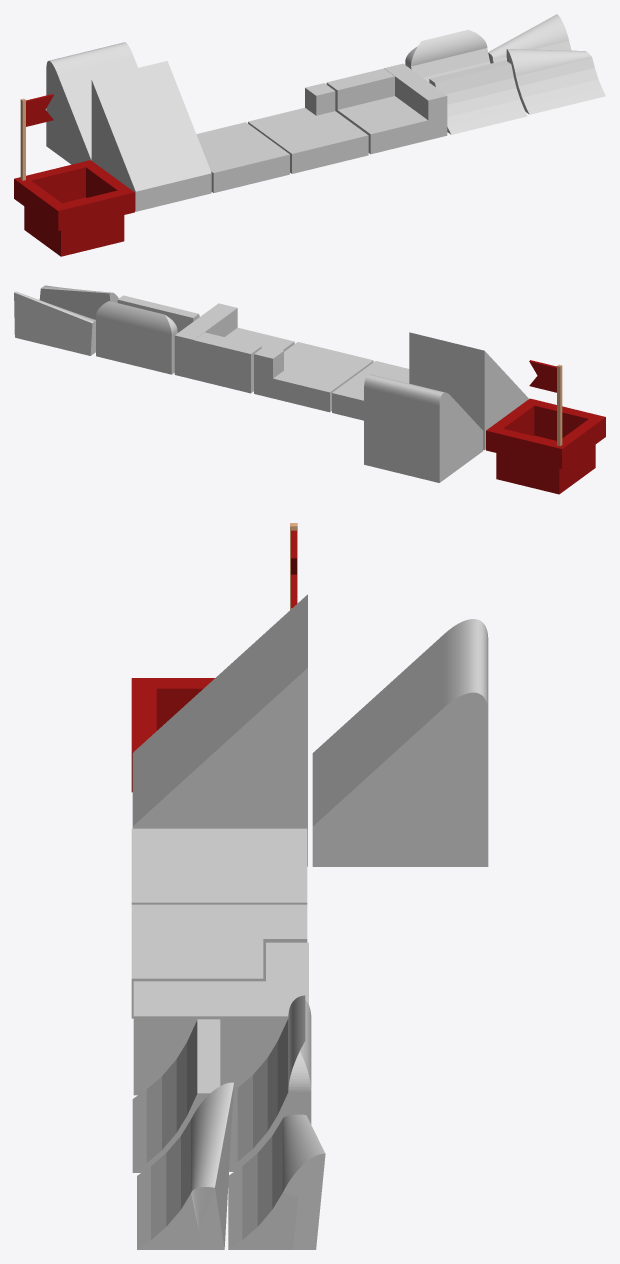
File: block fix.glb
3 views of the same model, one above another, from view 1: azimuth 30°, elevation 25°; view 2: azimuth 150°, elevation 25°; view 3: azimuth 270°, elevation 25° (orthographic). The views are drawn at different scales.
Parts seen in each view (by area): view 1: tanjakan mencos, target, flat benteng, tanjakan tumpul, flat corner nonjol, tanjakan miring kanan, tanjakan melengkung, flat floor, tanjakan melengkung.001, tanjakan miring kiri; view 2: tanjakan tumpul, target, tanjakan mencos, flat benteng, flat corner nonjol, tanjakan melengkung.001, tanjakan miring kiri, flat floor, tanjakan miring kanan, tanjakan melengkung; view 3: tanjakan tumpul, tanjakan mencos, flat benteng, flat floor, flat corner nonjol, tanjakan miring kanan, tanjakan miring kiri, tanjakan melengkung.001, tanjakan melengkung, target.
Boxes of the visible parts, x1,y1,x2,y2 form: tanjakan mencos: (91,61,211,211); target: (14,94,134,256); flat benteng: (326,63,447,154); tanjakan tumpul: (46,42,137,164); flat corner nonjol: (248,83,368,173); tanjakan miring kanan: (506,49,605,114); tanjakan melengkung: (429,60,527,134); flat floor: (196,122,289,192); tanjakan melengkung.001: (405,29,490,82); tanjakan miring kiri: (488,14,571,63); tanjakan tumpul: (364,374,483,482); target: (486,360,605,494); tanjakan mencos: (409,332,528,450); flat benteng: (174,303,294,393); flat corner nonjol: (254,342,373,412); tanjakan melengkung.001: (96,301,177,374); tanjakan miring kiri: (14,291,95,355); flat floor: (332,361,409,420); tanjakan miring kanan: (39,285,118,319); tanjakan melengkung: (117,295,199,332); tanjakan tumpul: (312,619,488,866); tanjakan mencos: (132,594,307,866); flat benteng: (133,942,308,1095); flat floor: (131,828,307,904); flat corner nonjol: (131,904,307,1018); tanjakan miring kanan: (137,1082,233,1249); tanjakan miring kiri: (228,1114,325,1249); tanjakan melengkung.001: (229,995,311,1171); tanjakan melengkung: (132,1019,220,1172); target: (131,523,297,792).
Size of what is drawn, in the model's own units: 28.67 by 6.51 by 8.12.
Materials: 1 (1 with a texture image).
